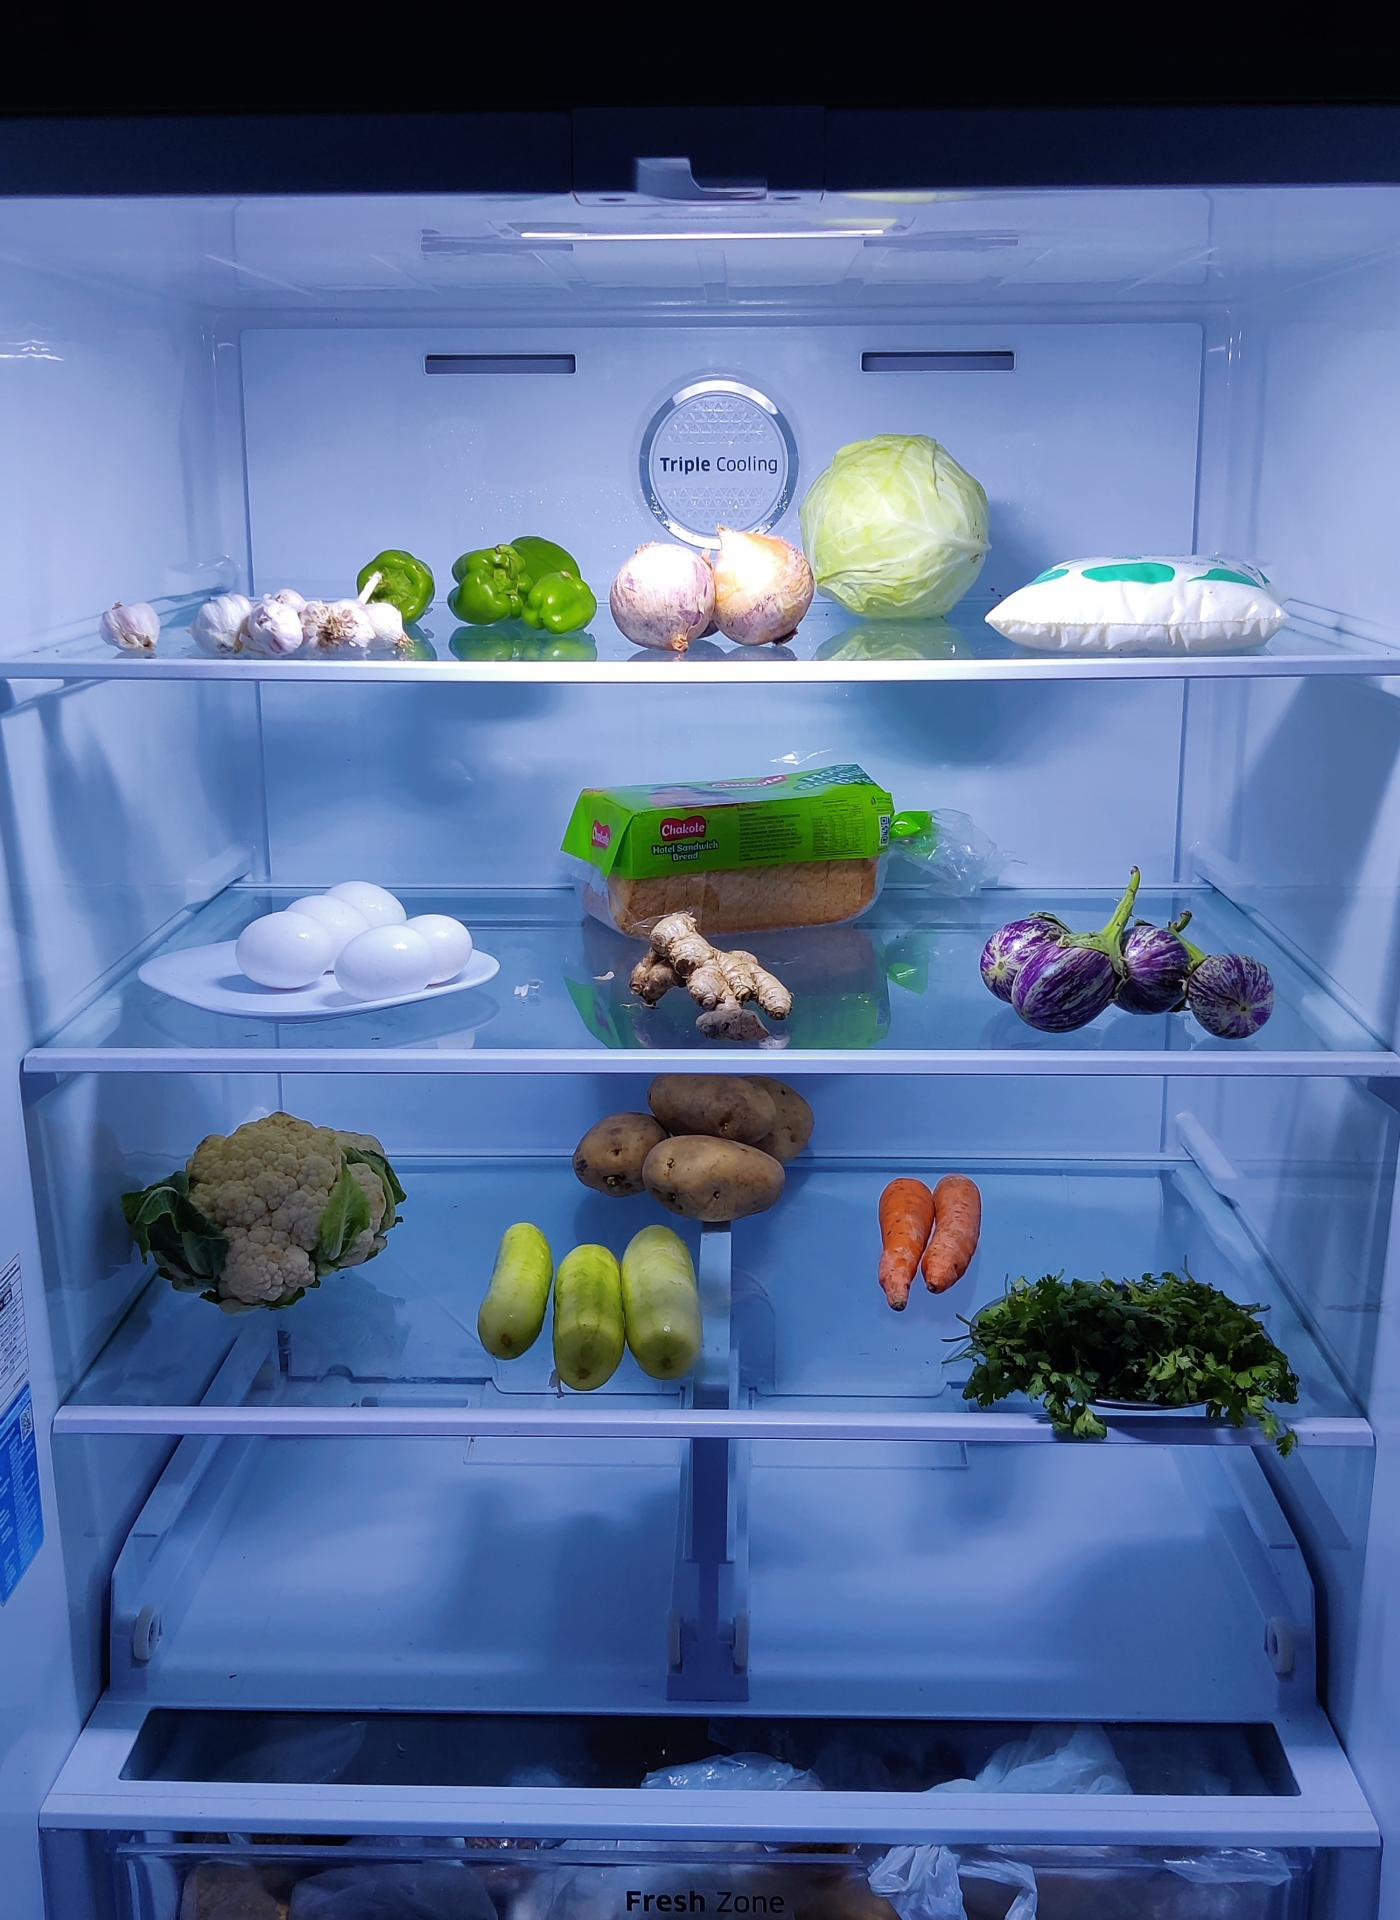bread: (567, 760, 912, 932)
brinjal: (981, 905, 1272, 1036)
cabbage: (804, 428, 993, 619)
capsicum: (447, 529, 601, 632)
carrots: (872, 1172, 975, 1300)
cauliflower: (133, 1112, 406, 1315)
coriander: (972, 1270, 1300, 1430)
cucumber: (474, 1218, 704, 1395)
egg: (236, 877, 476, 994)
garlic: (210, 583, 416, 662)
ginger: (628, 918, 793, 1040)
milk: (988, 552, 1282, 654)
onion: (613, 529, 814, 651)
potato: (570, 1072, 813, 1218)
